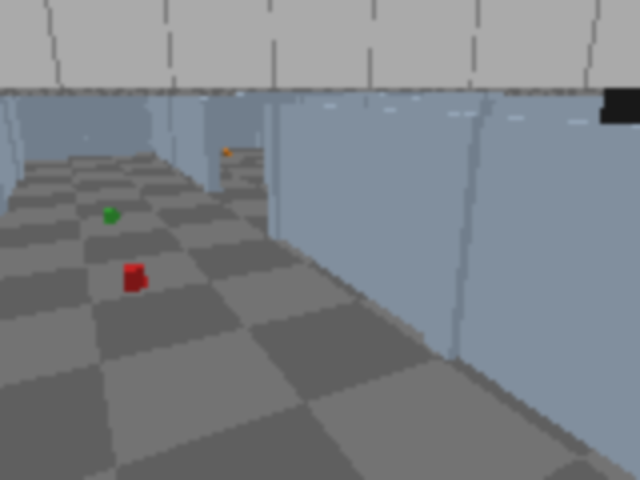puck: (122, 263, 147, 292), (103, 207, 119, 223)
